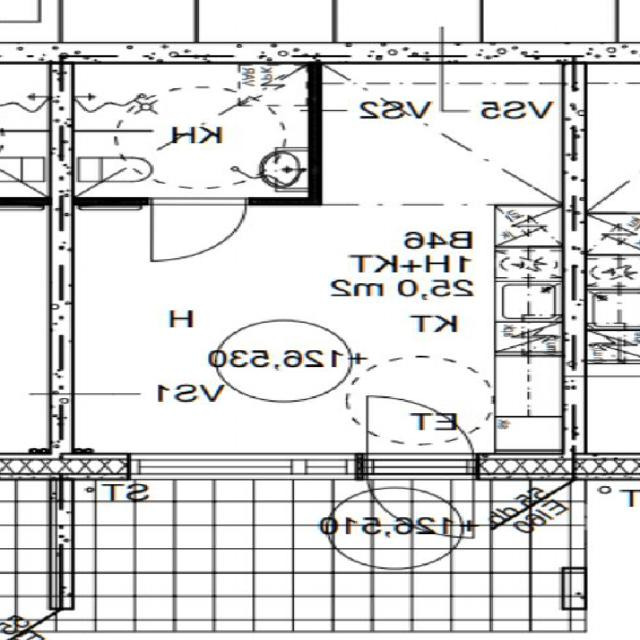door: (367, 453, 474, 543), (367, 390, 474, 479), (152, 197, 246, 260)
